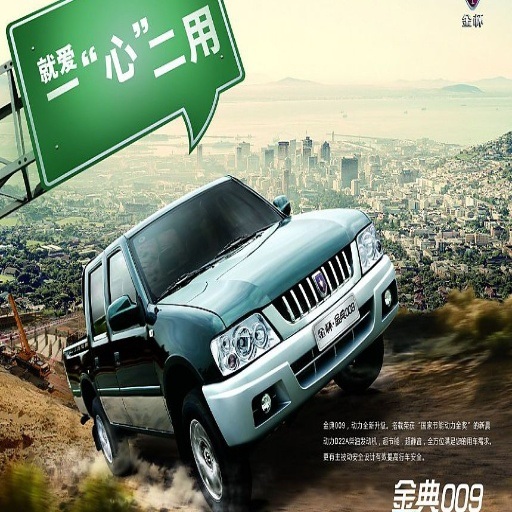front_bumper: (204, 258, 393, 447)
front_glass: (129, 180, 285, 293), (35, 2, 134, 77)
front_left_light: (220, 307, 280, 379)
